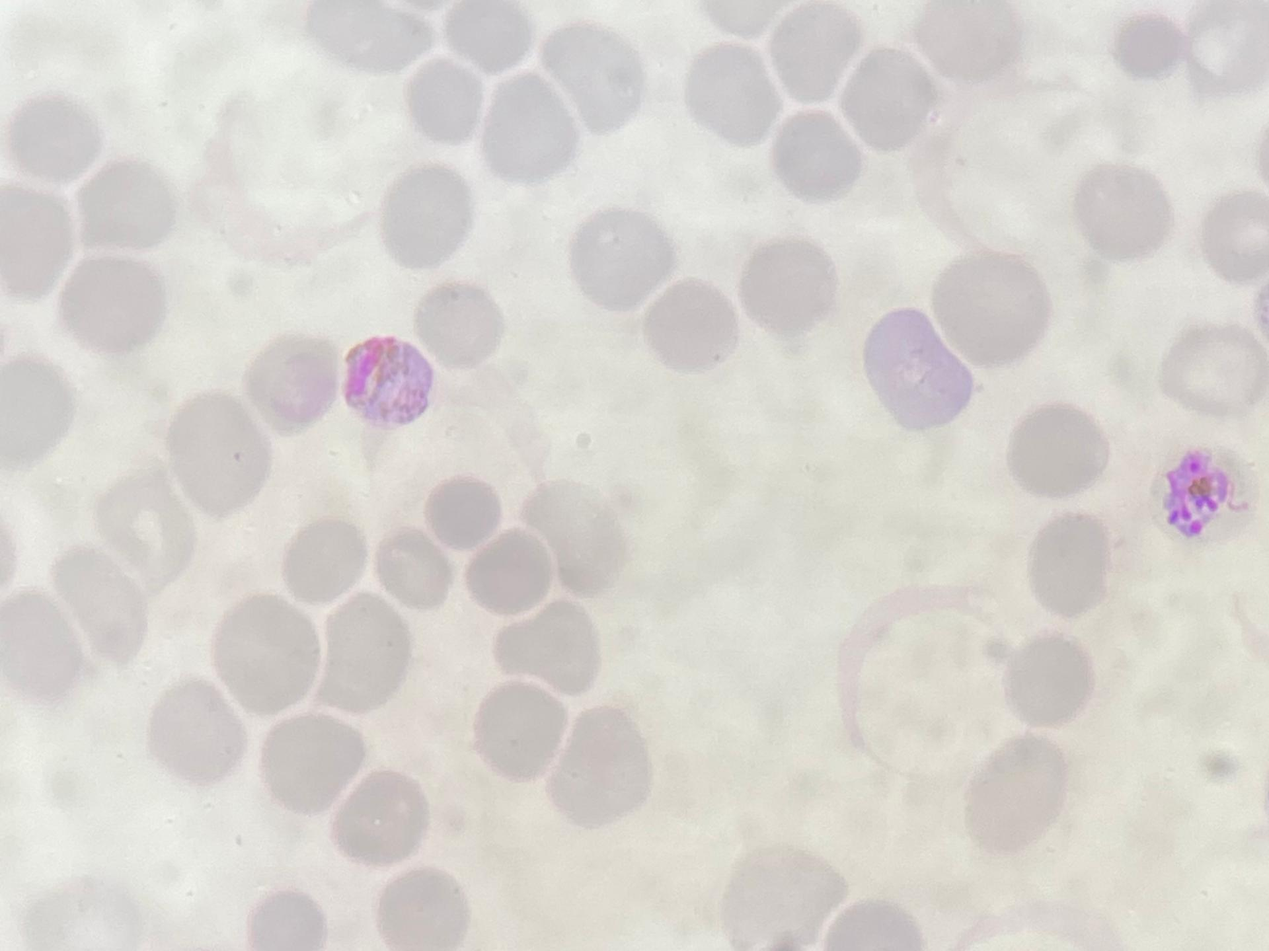Infected: (1145, 438, 1256, 543), (342, 331, 435, 427)
Uninfected: (91, 464, 205, 591), (863, 306, 976, 427), (163, 389, 272, 514), (929, 251, 1048, 365), (718, 847, 848, 949), (516, 478, 627, 596), (212, 593, 319, 715), (547, 703, 653, 824), (50, 544, 151, 670), (537, 20, 644, 133), (962, 737, 1068, 851), (313, 592, 412, 713), (57, 252, 169, 357), (477, 71, 580, 183), (256, 709, 363, 814), (836, 47, 940, 152), (567, 207, 672, 309), (489, 595, 596, 695), (1157, 321, 1268, 416), (376, 161, 475, 267), (146, 679, 243, 786), (0, 586, 87, 704), (329, 765, 432, 864), (683, 44, 780, 147), (75, 155, 178, 252), (766, 3, 866, 102), (1005, 401, 1109, 496), (738, 237, 837, 336), (471, 679, 568, 780), (1073, 162, 1174, 258), (640, 276, 740, 372), (244, 334, 340, 431), (1025, 512, 1113, 615), (5, 91, 102, 183), (303, 1, 425, 74), (0, 183, 79, 295), (1, 352, 76, 469), (1000, 632, 1093, 725), (463, 526, 558, 617), (280, 515, 370, 605), (777, 111, 866, 202), (402, 56, 489, 149), (915, 0, 1019, 77), (1183, 1, 1269, 93), (413, 282, 506, 367), (374, 866, 470, 947), (442, 1, 533, 73), (375, 528, 453, 609), (1199, 190, 1269, 278), (423, 475, 503, 551), (1114, 11, 1191, 83), (819, 897, 919, 949), (245, 887, 327, 948)
